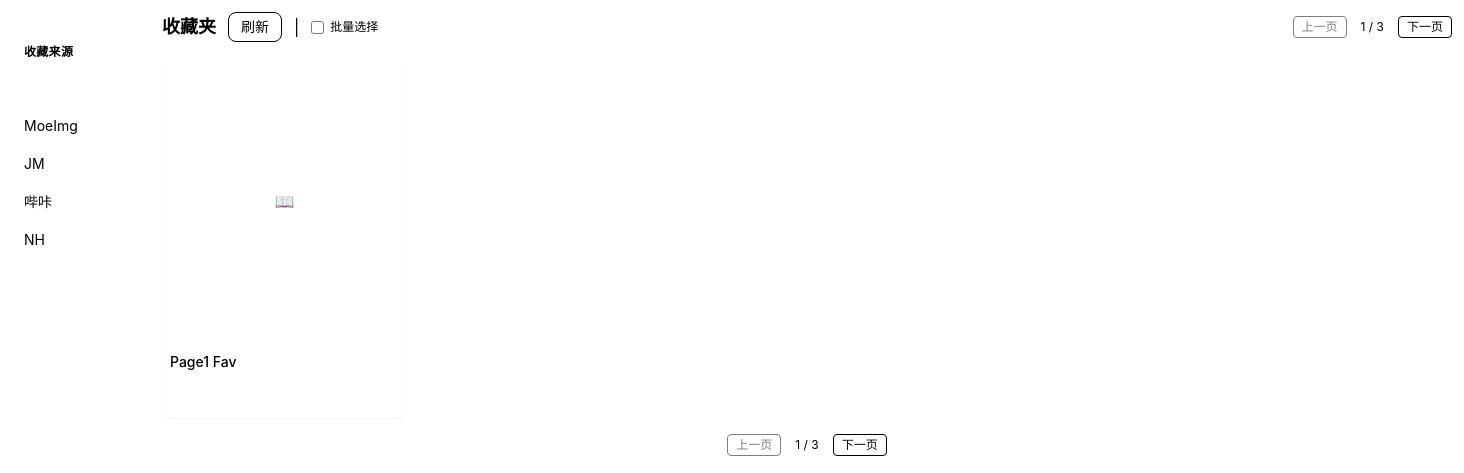
Test: FavouritesPage › 卡片列表整页重挂载 key（防 layout 飞入） › 翻页（currentPage 变化）时 grid key 改变
Expected: the heading "Page1 Fav" is shown, top-left (170, 353), bottom-right (237, 370)
Click the button "下一页" in the row of "批量选择" at (1425, 27), box top-left (1398, 16), bottom-right (1452, 38)
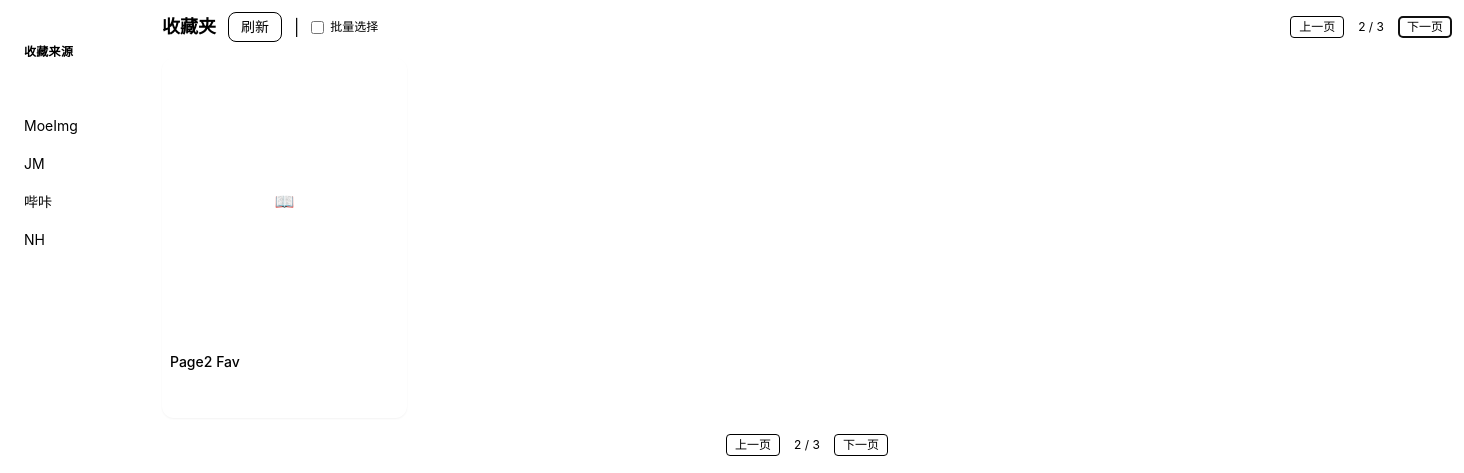
Expected: the heading "Page2 Fav" is shown, top-left (170, 353), bottom-right (240, 370)
